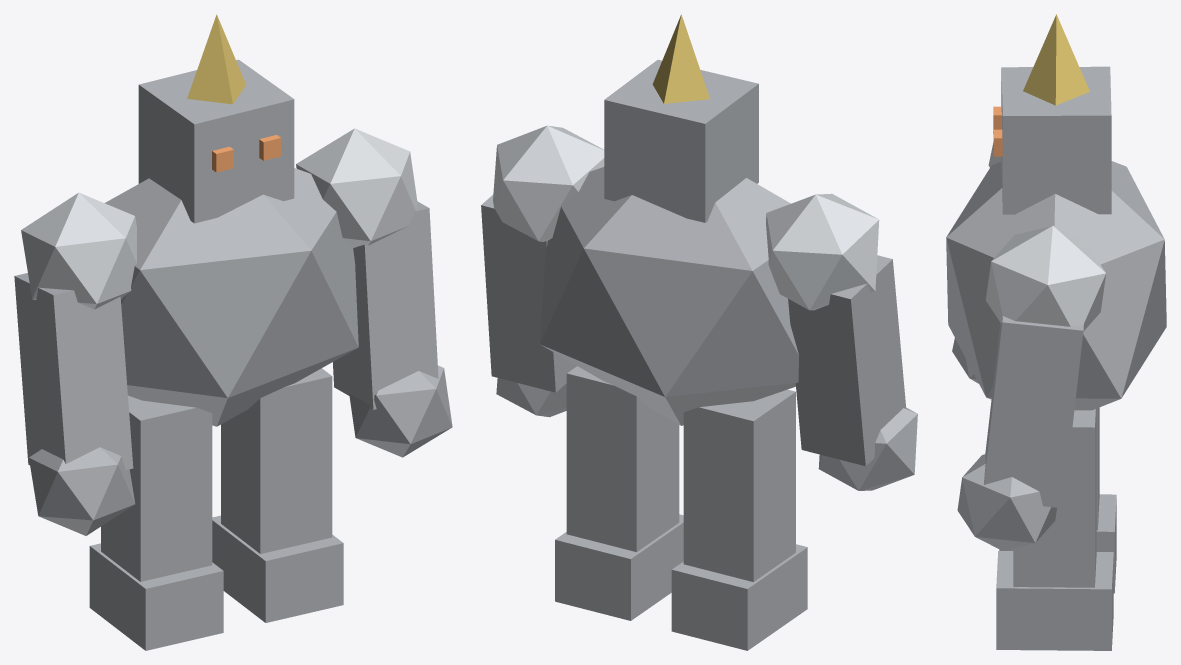
File: npcpose_golem_idle_10.glb
3 renders of one model, left to right at view 1: azimuth 30°, elevation 25°; view 2: azimuth 150°, elevation 25°; view 3: azimuth 270°, elevation 25°, orthographic.
Parts seen in each view (by area): view 1: npcpose; view 2: npcpose; view 3: npcpose.
Boxes of the visible parts, left/top/right/bottom form: npcpose: left=14, top=14, right=452, bottom=650; npcpose: left=481, top=14, right=917, bottom=650; npcpose: left=946, top=14, right=1166, bottom=650.
Bounding box in the file's own units: 1.38 × 1.91 × 0.649.
